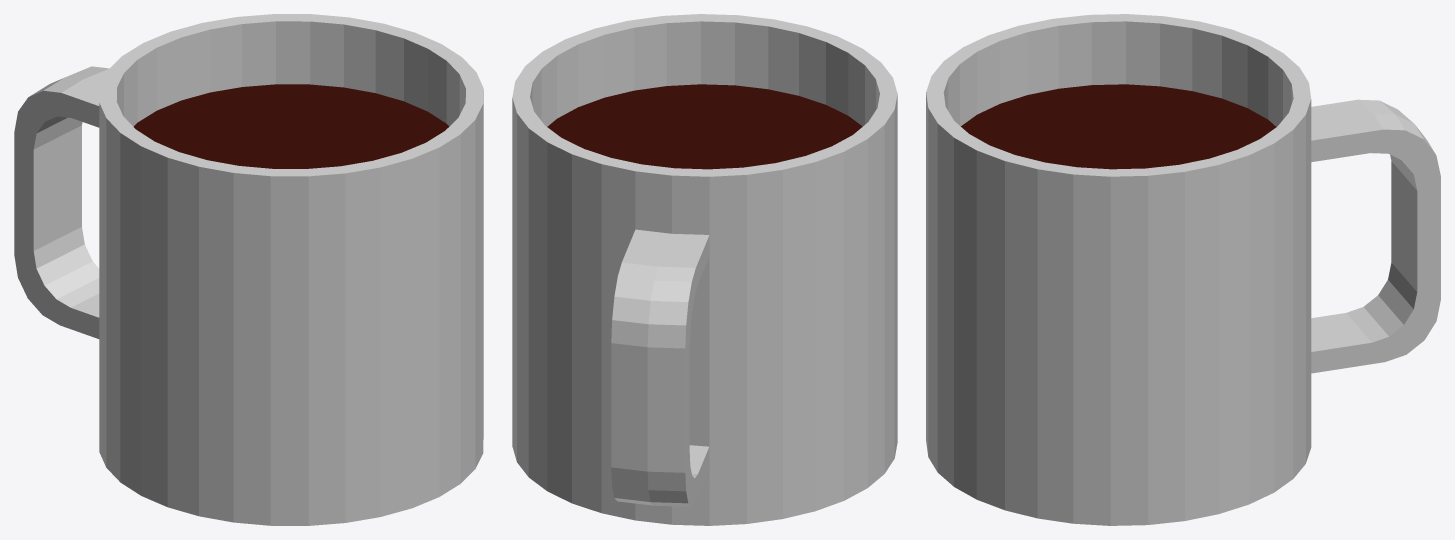
File: Cup.fbx
3 views of the same model, side by side, from view 1: azimuth 30°, elevation 25°; view 2: azimuth 150°, elevation 25°; view 3: azimuth 270°, elevation 25° (orthographic).
Parts seen in each view (by area): view 1: Cup; view 2: Cup; view 3: Cup.
Boxes of the visible parts, bbox=[...] form: Cup: bbox=[14, 14, 483, 525]; Cup: bbox=[512, 14, 897, 525]; Cup: bbox=[926, 14, 1440, 525].
Bounding box in the file's own units: 200 × 200 × 267.
